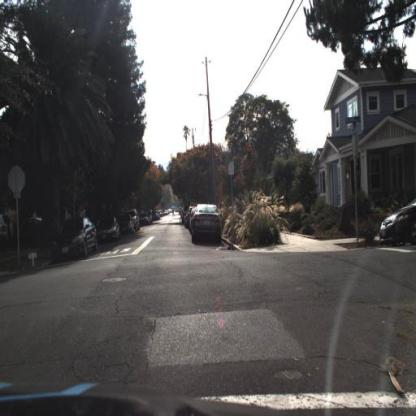car: (374, 190, 416, 254), (376, 191, 416, 248), (49, 218, 96, 262), (190, 201, 221, 242), (96, 217, 119, 244), (117, 210, 133, 234), (130, 208, 141, 232)
